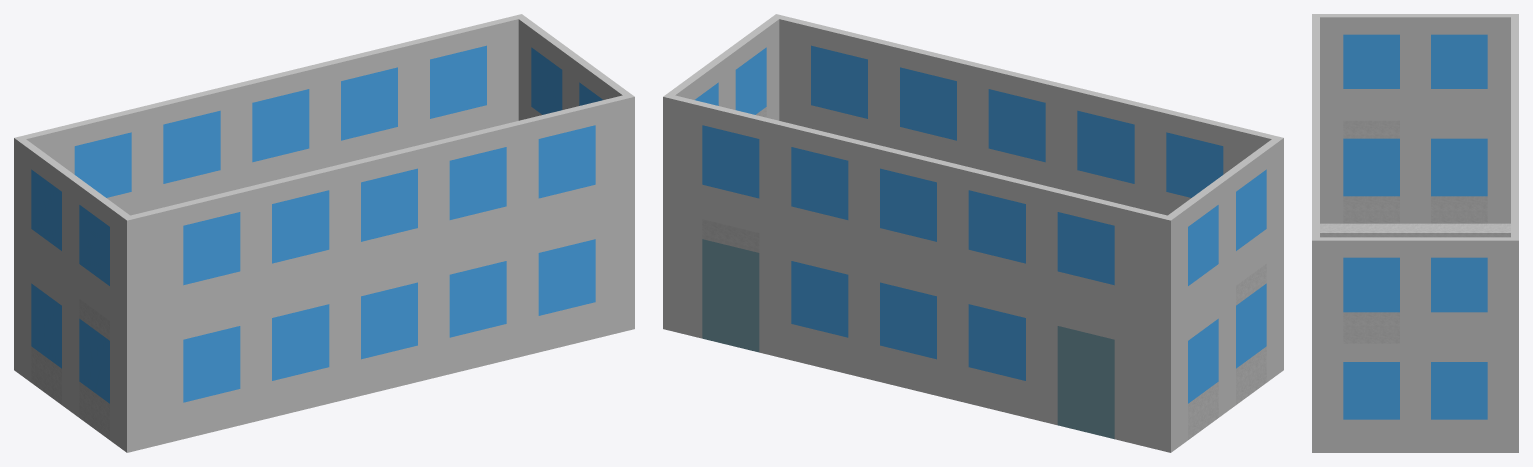
Rendered from Water_Softening_Room_expansion.glb.
3 views of the same model, side by side, from view 1: azimuth 30°, elevation 25°; view 2: azimuth 150°, elevation 25°; view 3: azimuth 270°, elevation 25° (orthographic). The views are drawn at different scales.
Visible parts, largest first — view 1: Floor1; view 2: Floor1; view 3: Floor1.
Part boxes in pixels (x1,y1,x2,y2): Floor1: (14, 14, 634, 452); Floor1: (663, 14, 1283, 452); Floor1: (1312, 14, 1518, 452).
Bounding box in the file's own units: 16.01 × 7 × 6.17.
Materials: 3 (3 with a texture image).
